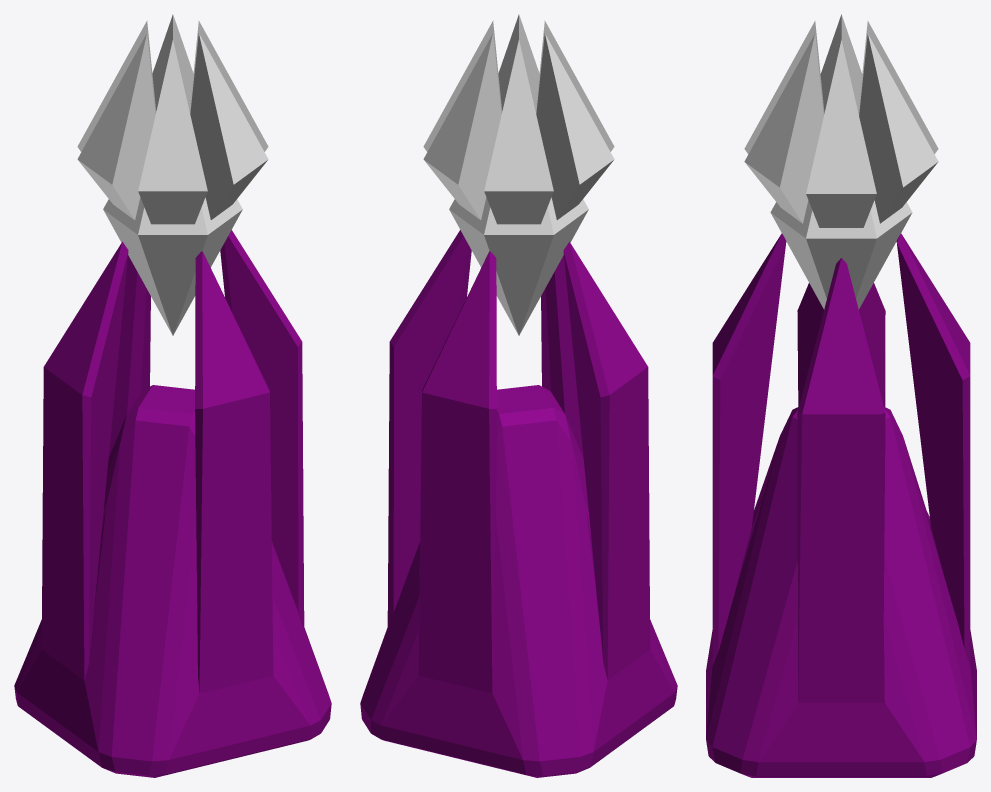
The model's file is queen.glb.
3 views of the same model, side by side, from view 1: azimuth 30°, elevation 25°; view 2: azimuth 150°, elevation 25°; view 3: azimuth 270°, elevation 25° (orthographic).
Visible parts, largest first — view 1: Cube, Cone; view 2: Cube, Cone; view 3: Cube, Cone.
Part boxes in pixels (bbox=[...]): Cube: bbox=[14, 230, 331, 777]; Cone: bbox=[77, 14, 268, 335]; Cube: bbox=[360, 230, 677, 777]; Cone: bbox=[423, 14, 614, 335]; Cube: bbox=[706, 233, 976, 777]; Cone: bbox=[744, 14, 938, 309].
Size of the model in its own units: 0.762 by 2.18 by 0.762.
